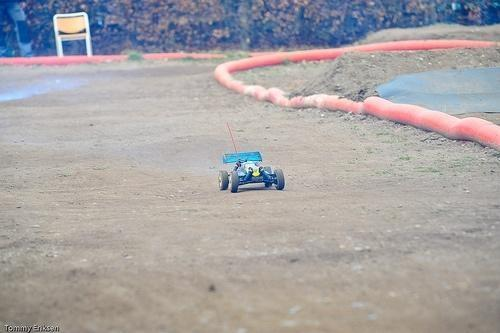Car: (194, 116, 300, 208)
